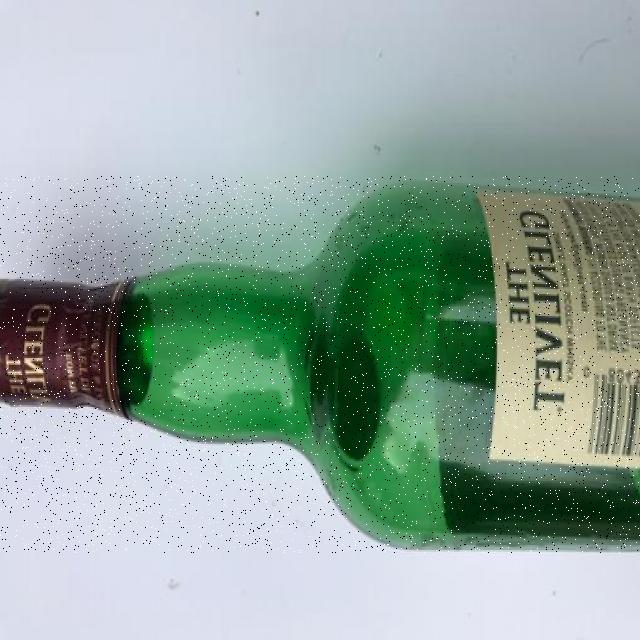glass: (0, 176, 640, 553)
